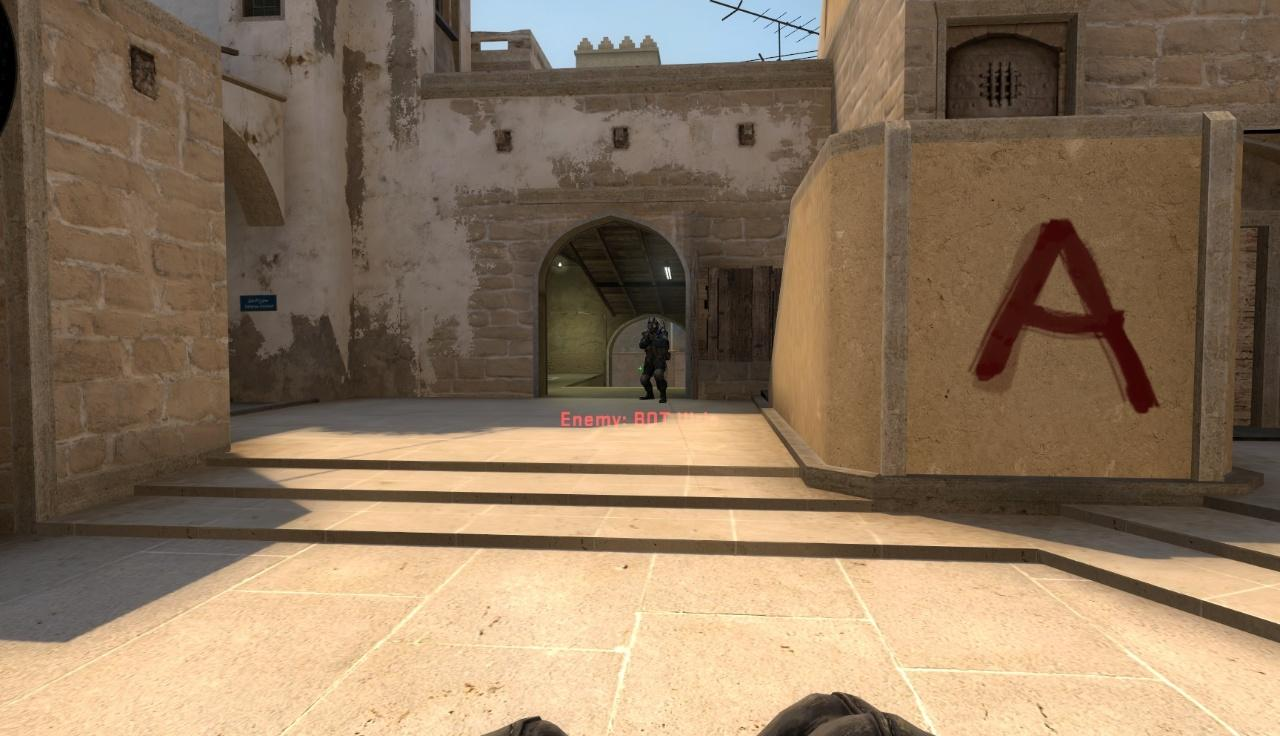ct: (639, 317, 669, 403)
cthead: (647, 317, 658, 333)
